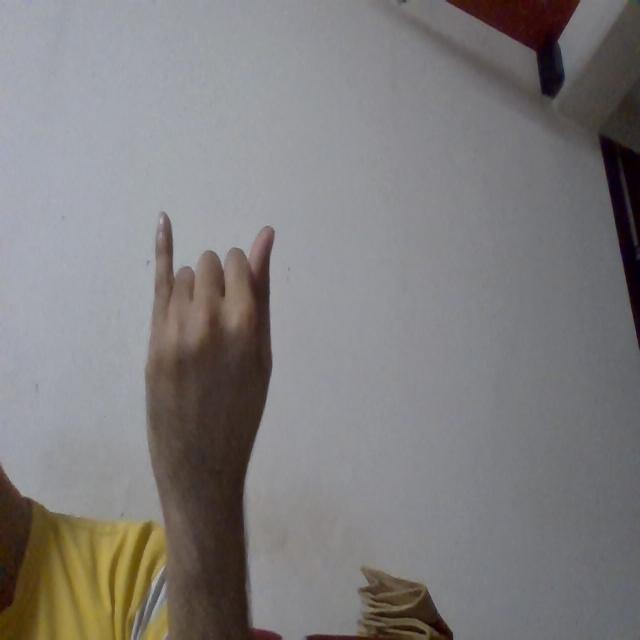J: (116, 187, 339, 563)
